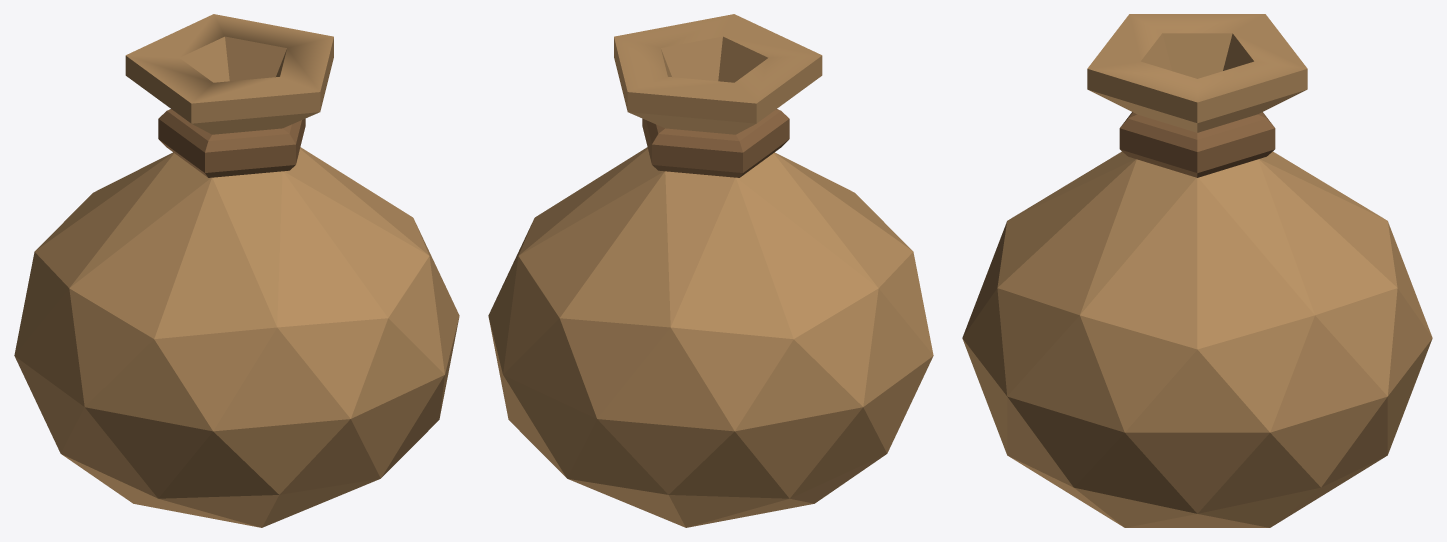
File: MoneyBag.fbx
3 renders of one model, left to right at view 1: azimuth 30°, elevation 25°; view 2: azimuth 150°, elevation 25°; view 3: azimuth 270°, elevation 25°, orthographic. The views are drawn at different scales.
Parts seen in each view (by area): view 1: MoneyBag; view 2: MoneyBag; view 3: MoneyBag.
Part boxes in pixels (<box>): MoneyBag: <box>14,14,459,527</box>; MoneyBag: <box>488,14,933,527</box>; MoneyBag: <box>962,14,1432,527</box>.
Size of the model in its own units: 0.1561 by 0.1674 by 0.1641.
